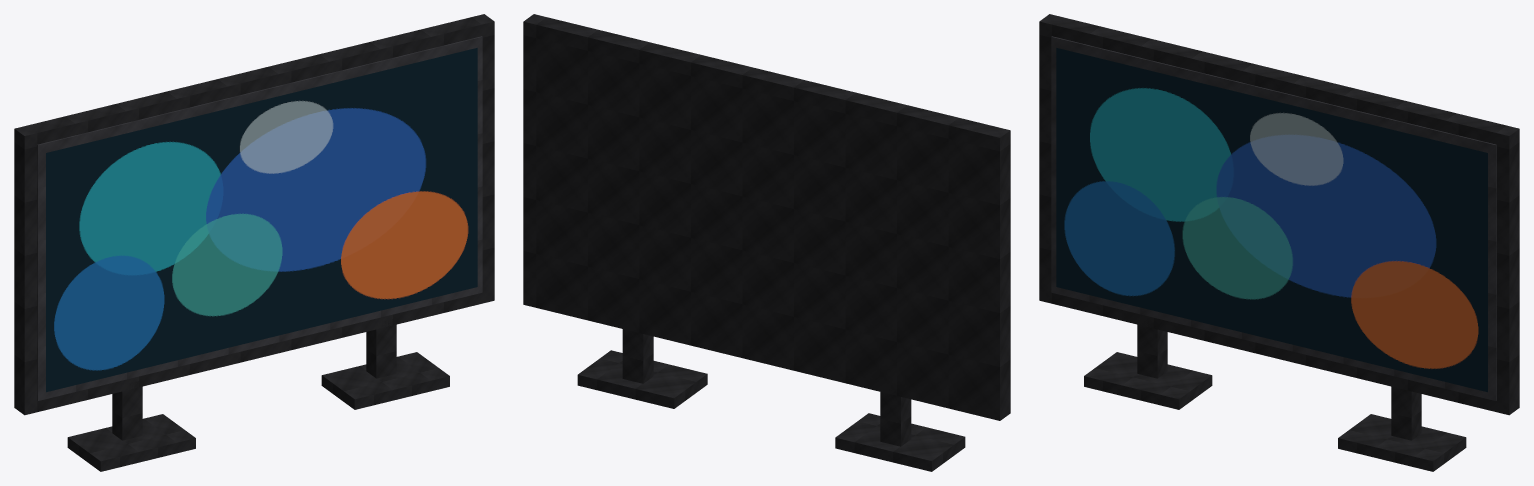
3 views of the same model, side by side, from view 1: azimuth 30°, elevation 25°; view 2: azimuth 150°, elevation 25°; view 3: azimuth 330°, elevation 25° (orthographic).
Visible parts, largest first — view 1: tv; view 2: tv; view 3: tv.
Boxes of the visible parts, x1,y1,x2,y2 form: tv: (14, 14, 494, 471); tv: (523, 14, 1010, 471); tv: (1039, 14, 1519, 471).
Size of the model in its own units: 0.74 by 0.51 by 0.09.
Materials: 4 (4 with a texture image).
